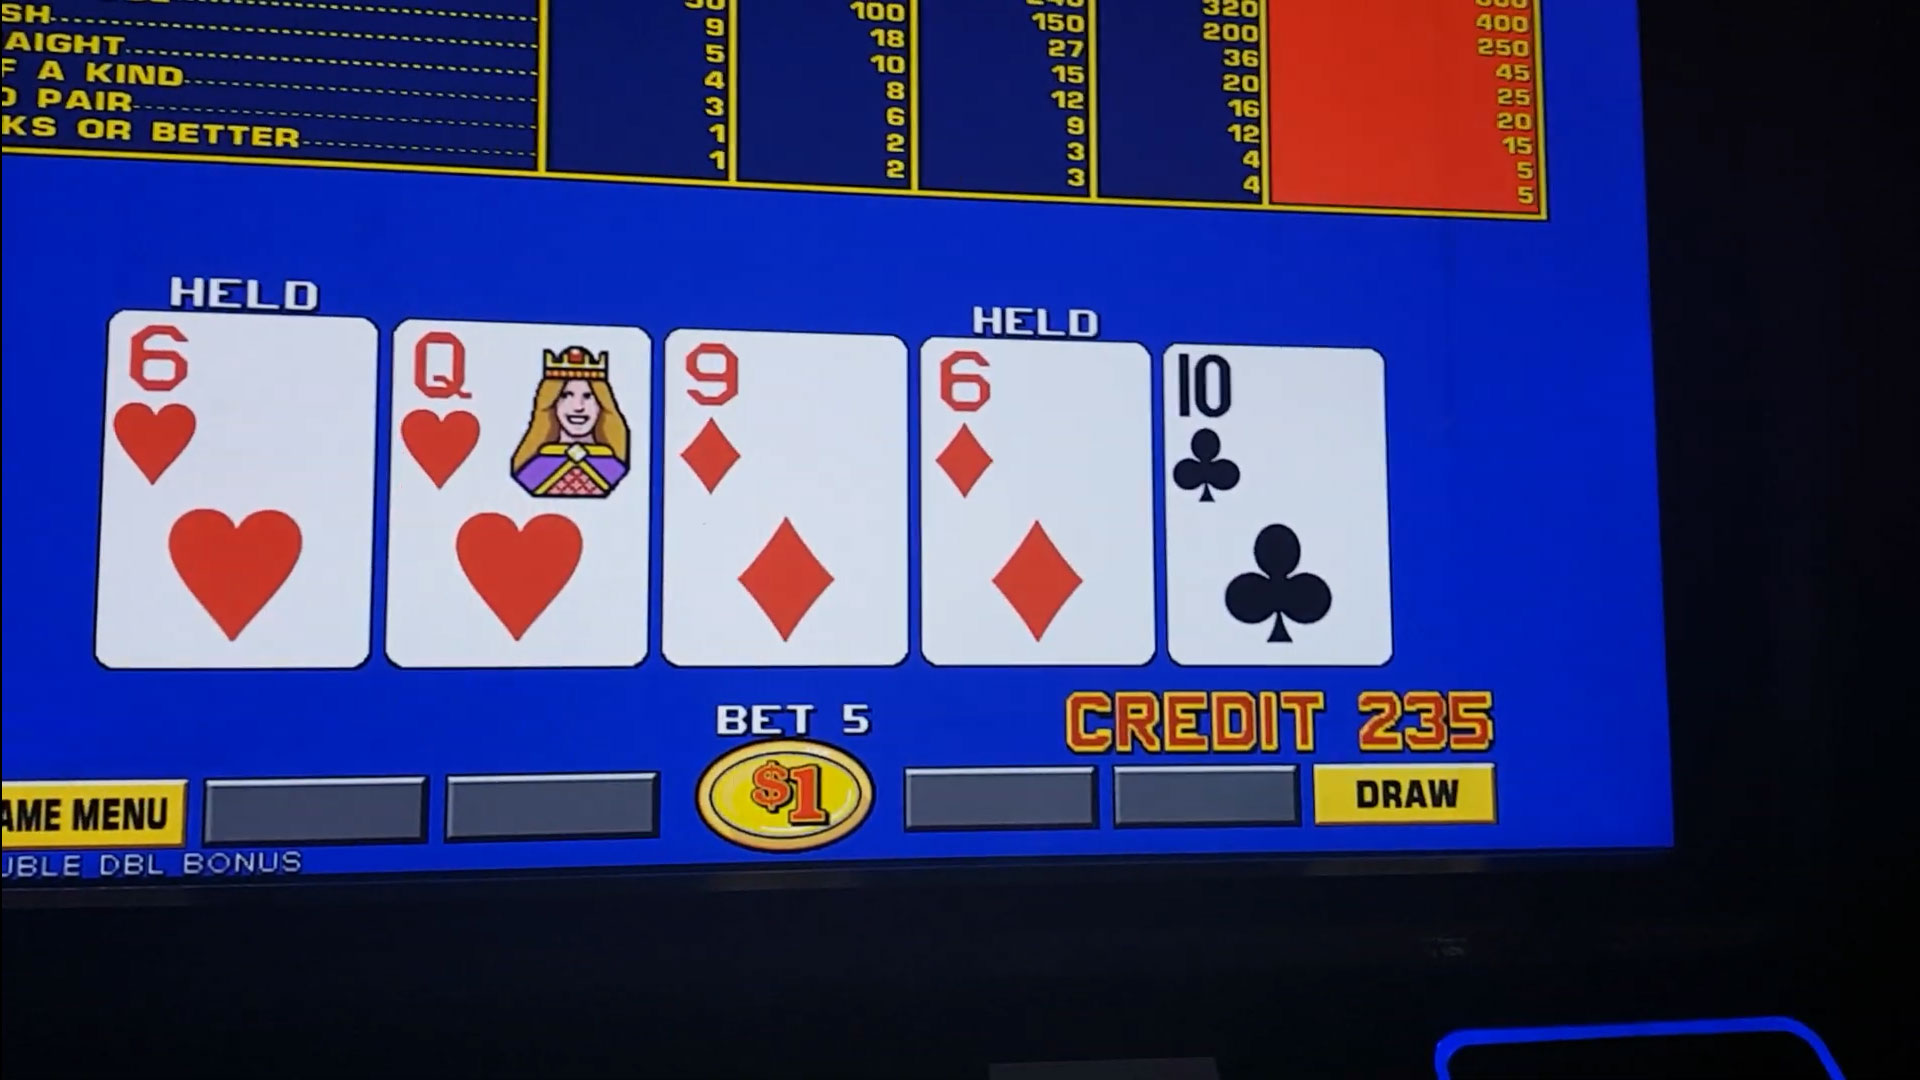CT: (1172, 351, 1379, 516)
D6: (931, 343, 1147, 517)
D9: (673, 339, 905, 516)
H6: (115, 319, 373, 492)
HQ: (396, 327, 641, 497)
